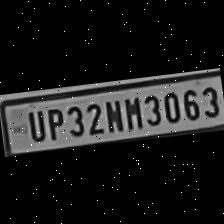0: (158, 88, 181, 124)
2: (81, 99, 104, 136)
3: (139, 90, 161, 128), (197, 82, 220, 118), (62, 100, 84, 136)
6: (177, 84, 200, 120)
M: (120, 92, 142, 130)
N: (100, 95, 122, 133)
P: (42, 104, 66, 140)
U: (22, 107, 46, 142)
